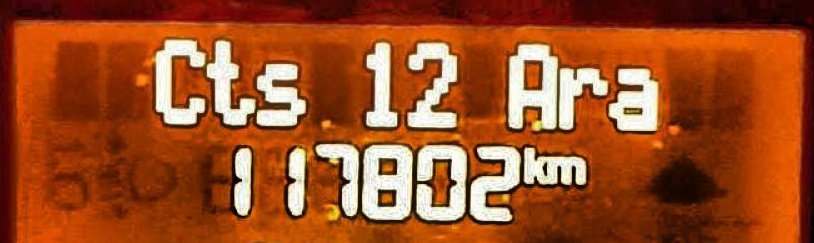0: (416, 140, 467, 224)
1: (360, 35, 399, 128), (229, 136, 253, 220), (283, 137, 305, 219)
2: (403, 38, 460, 131), (468, 140, 520, 224)
7: (311, 138, 361, 218)
8: (362, 141, 413, 222)
X: (152, 32, 206, 128), (206, 35, 256, 127), (507, 41, 558, 131), (606, 62, 659, 133), (257, 55, 306, 131), (558, 62, 605, 129), (548, 151, 590, 186), (522, 142, 547, 187)
